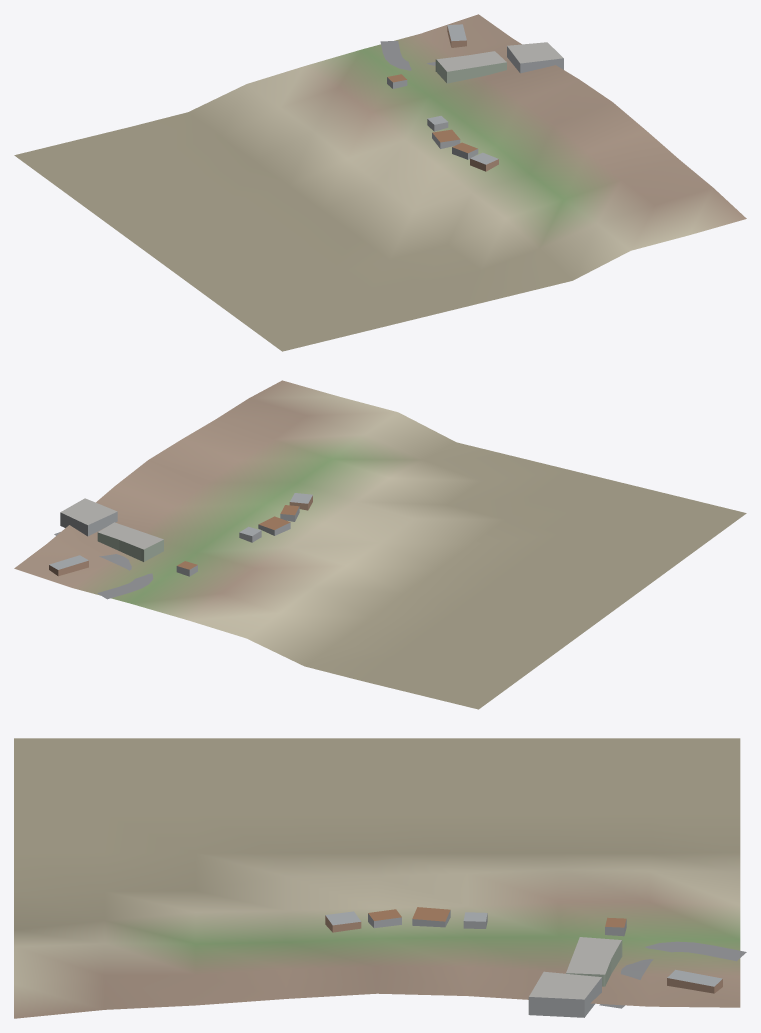
3 renders of one model, top to bottom at view 1: azimuth 30°, elevation 25°; view 2: azimuth 150°, elevation 25°; view 3: azimuth 270°, elevation 25°, orthographic. The views are drawn at different scales.
Parts seen in each view (by area): view 1: Lo; view 2: Lo; view 3: Lo.
Boxes of the visible parts, x1,y1,x2,y2 form: Lo: (14, 14, 746, 351); Lo: (14, 380, 746, 709); Lo: (14, 738, 746, 1018).
Size of the model in its own units: 262 by 20.57 by 258.
